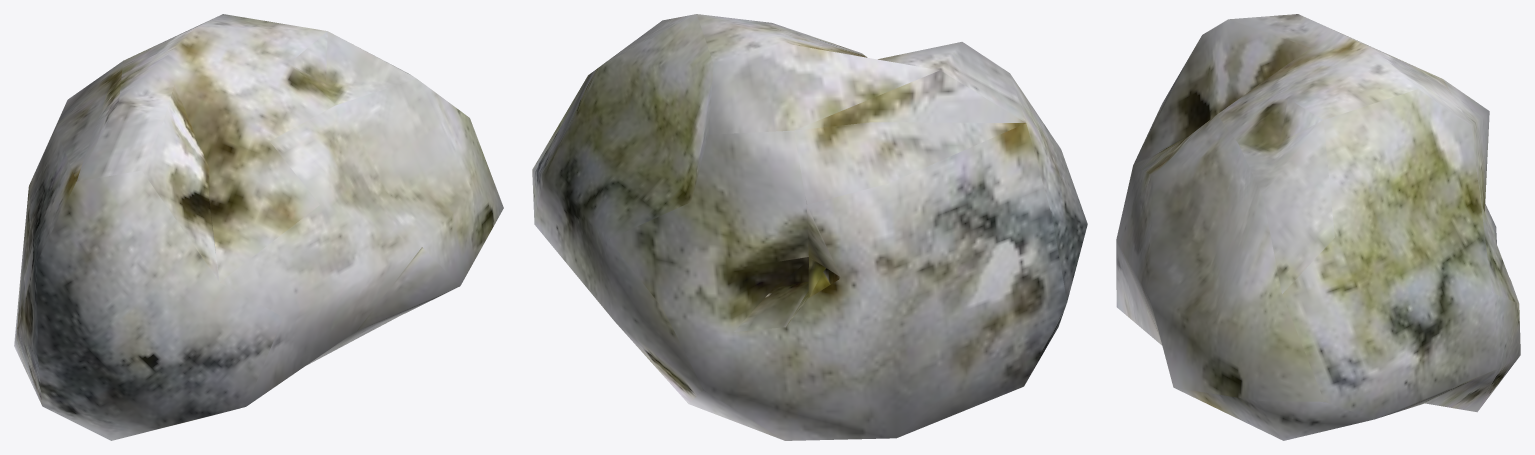
The model's file is rock.glb.
3 renders of one model, left to right at view 1: azimuth 30°, elevation 25°; view 2: azimuth 150°, elevation 25°; view 3: azimuth 270°, elevation 25°, orthographic. The views are drawn at different scales.
Visible parts, largest first — view 1: rock084_lod4; view 2: rock084_lod4; view 3: rock084_lod4.
Boxes of the visible parts, x1,y1,x2,y2 form: rock084_lod4: [14, 14, 503, 440]; rock084_lod4: [532, 14, 1087, 440]; rock084_lod4: [1116, 14, 1520, 440].
Bounding box in the file's own units: 1 × 0.6834 × 0.6838.
Materials: 1 (1 with a texture image).
